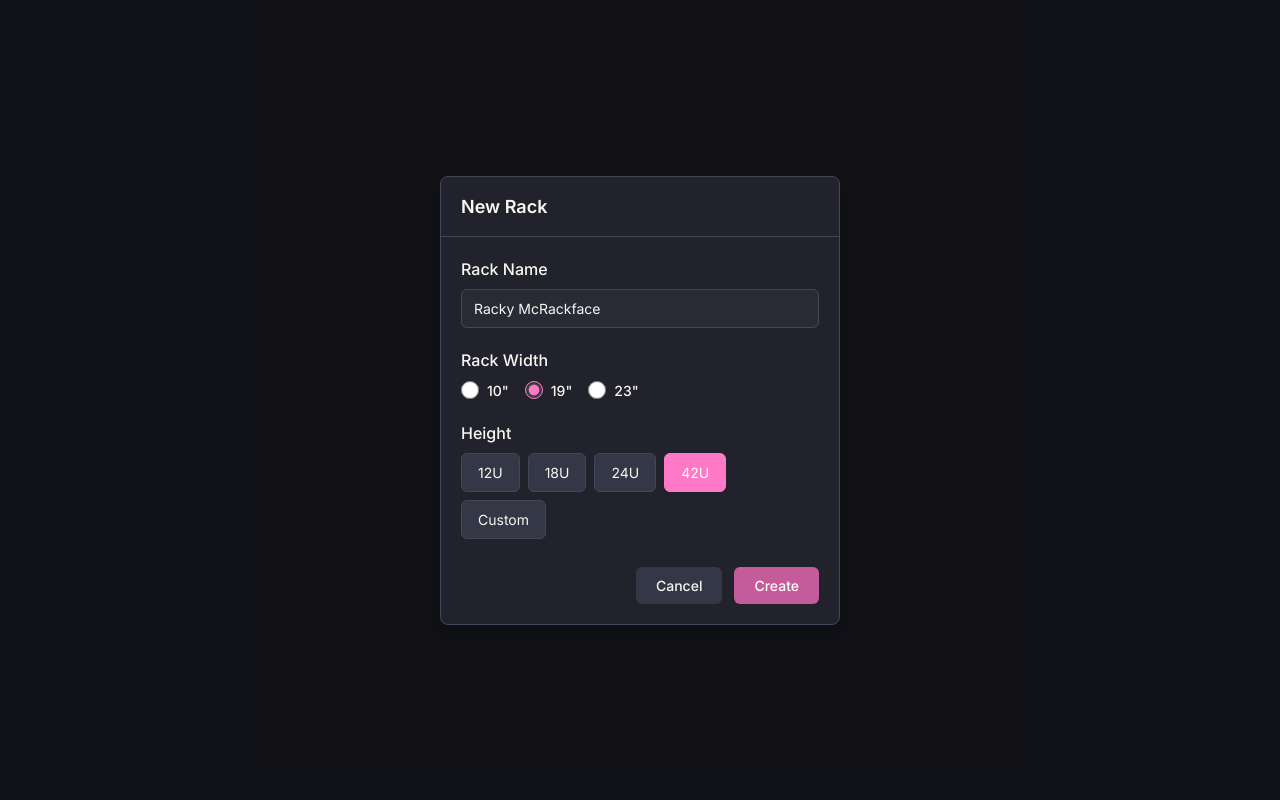
Test: NewRackForm Component › Validation › shows error for height < 1
Note: Enter name first
Replace the text in the field labelled "Rack Name" with "Test Rack" at (640, 308), box [461,288,819,328]
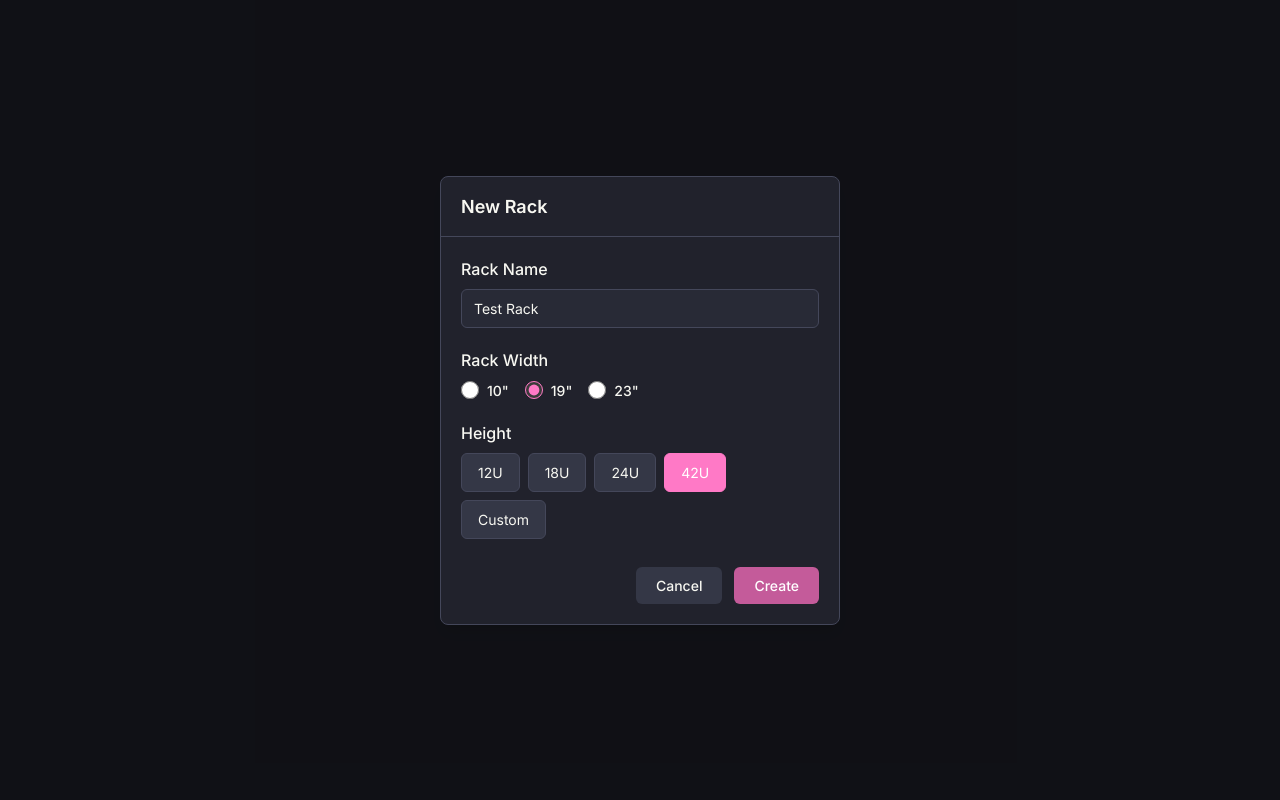
Note: Select custom and enter invalid height
Click the button "Custom" at (504, 519), box [461,500,546,538]
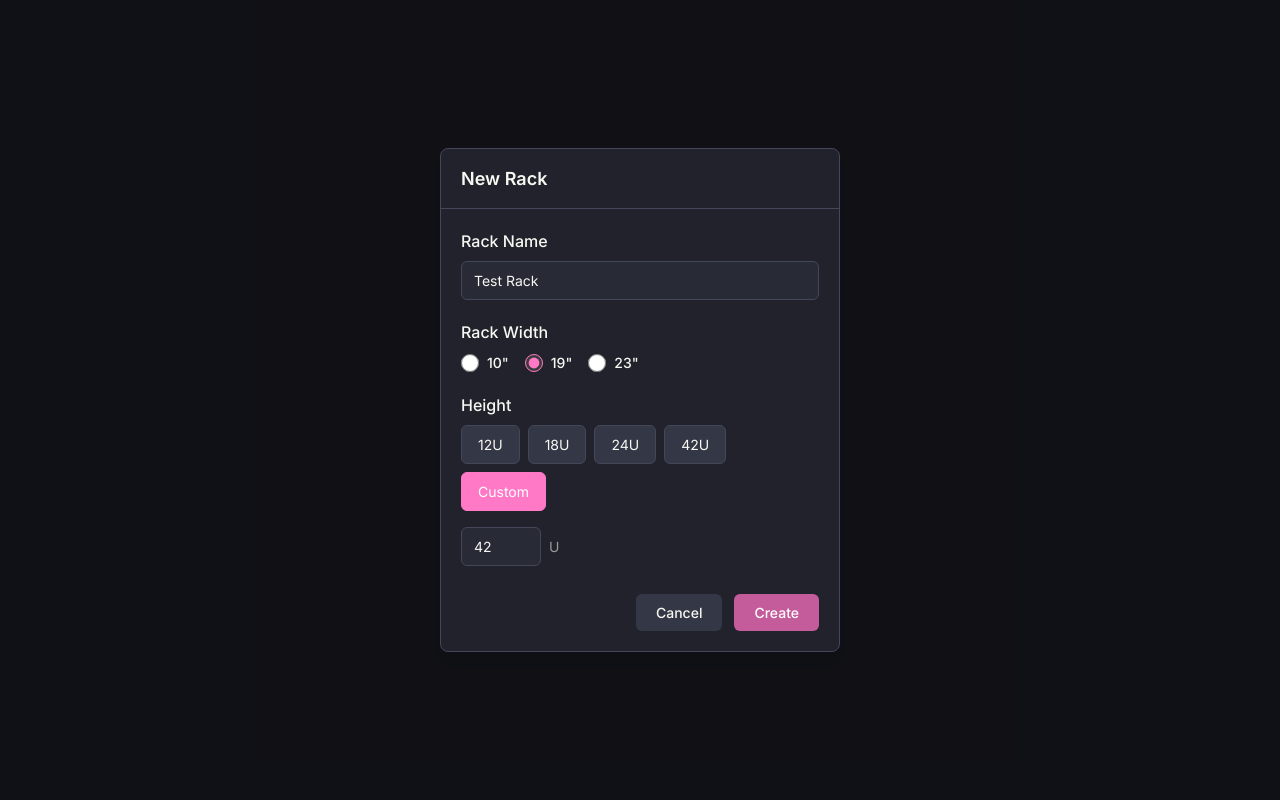
Replace the text in the number field named "height" with "0" at (501, 546), box [461,527,541,566]
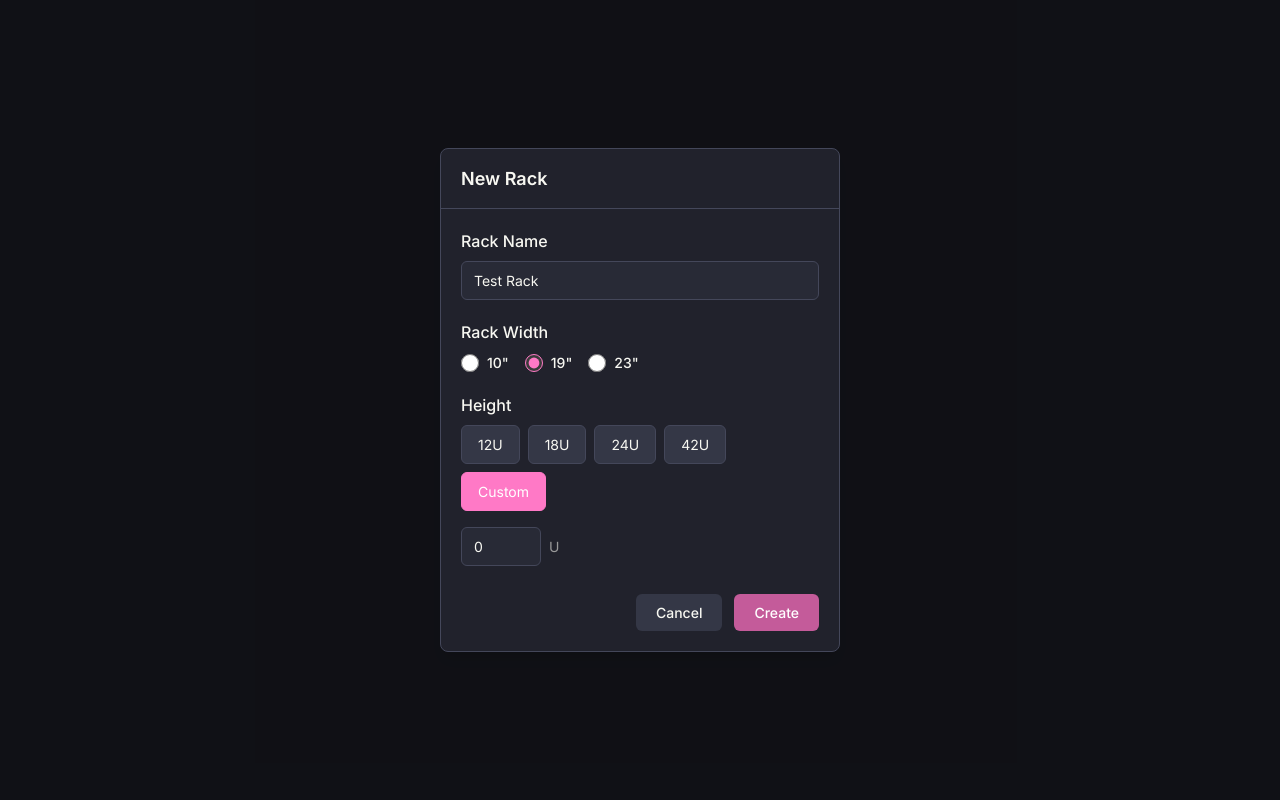
Click the button "Create" at (777, 612), box [734,594,819,631]
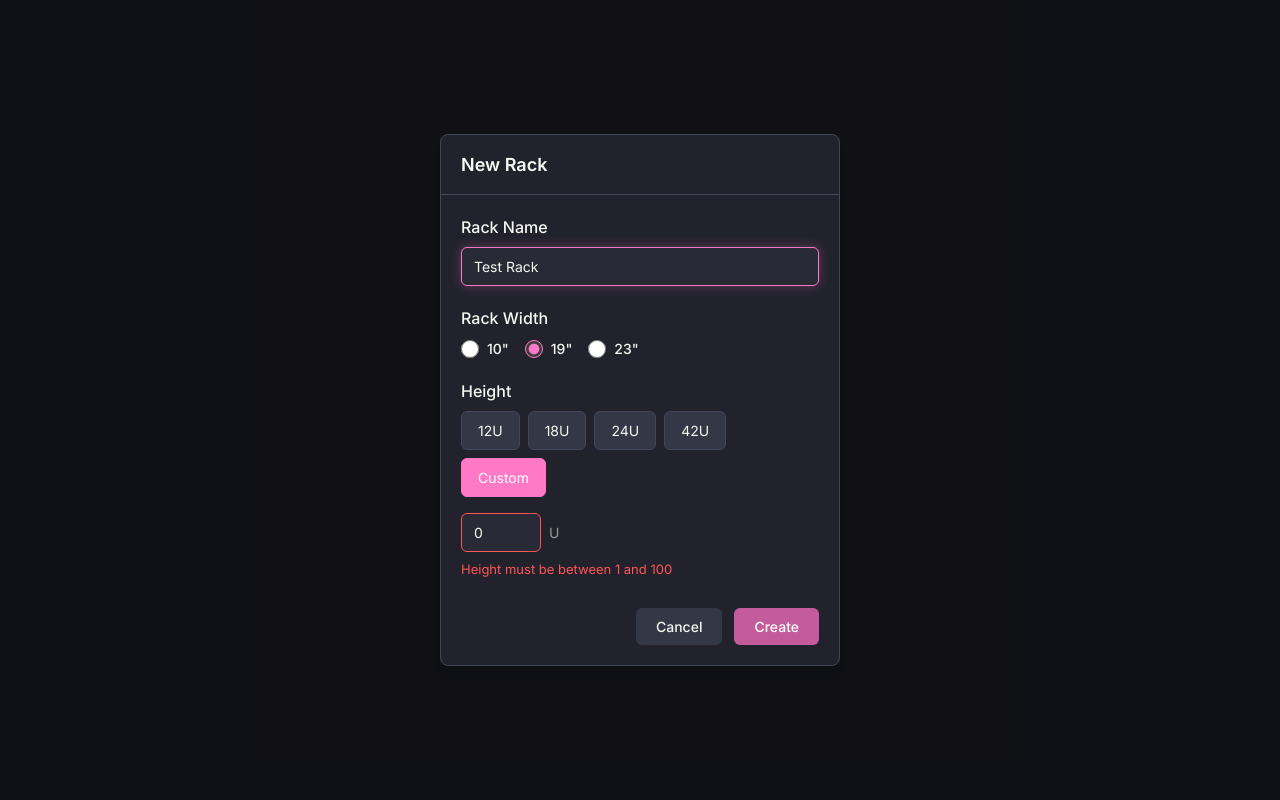
Expected: the text "Height must be between 1 and 100" is shown, [461,561,672,577]
